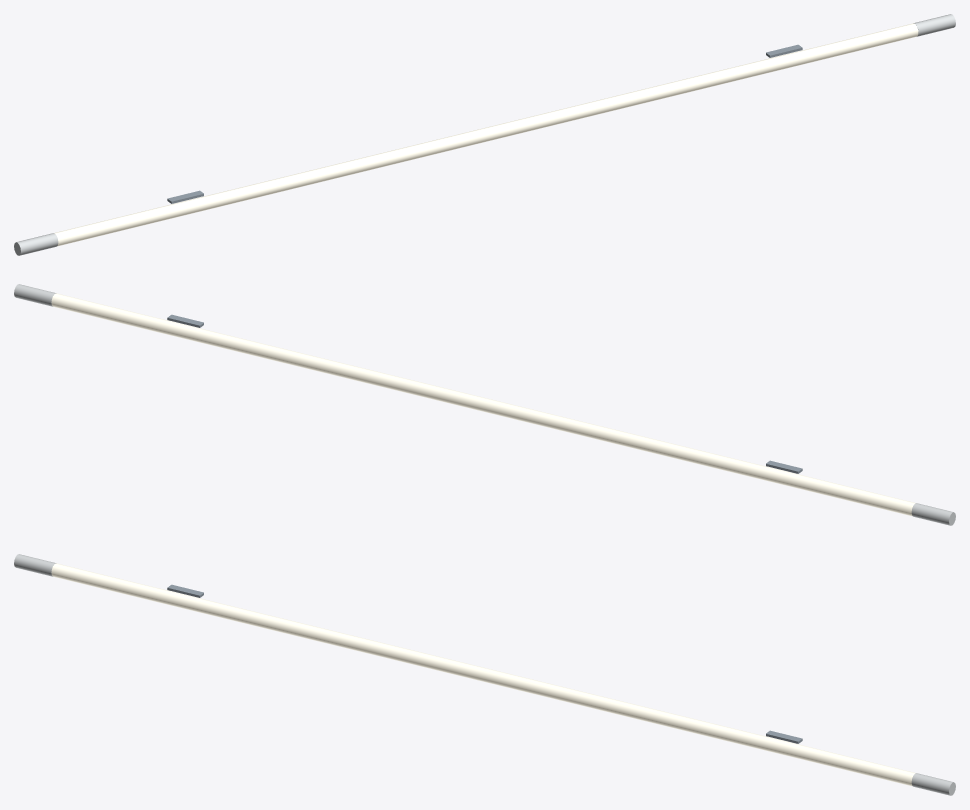
File: source.glb
3 renders of one model, top to bottom at view 1: azimuth 30°, elevation 25°; view 2: azimuth 150°, elevation 25°; view 3: azimuth 330°, elevation 25°, orthographic.
Parts seen in each view (by area): view 1: Emitters, 粉末涂层铝壳; view 2: Emitters, 粉末涂层铝壳; view 3: Emitters, 粉末涂层铝壳.
Part boxes in pixels (left/top/right/bottom): Emitters: left=54, top=23, right=918, bottom=246; 粉末涂层铝壳: left=14, top=14, right=955, bottom=255; Emitters: left=51, top=293, right=915, bottom=516; 粉末涂层铝壳: left=14, top=284, right=955, bottom=525; Emitters: left=51, top=563, right=915, bottom=786; 粉末涂层铝壳: left=14, top=554, right=955, bottom=795.
Bounding box in the file's own units: 1.48 × 0.0276 × 0.0193.
